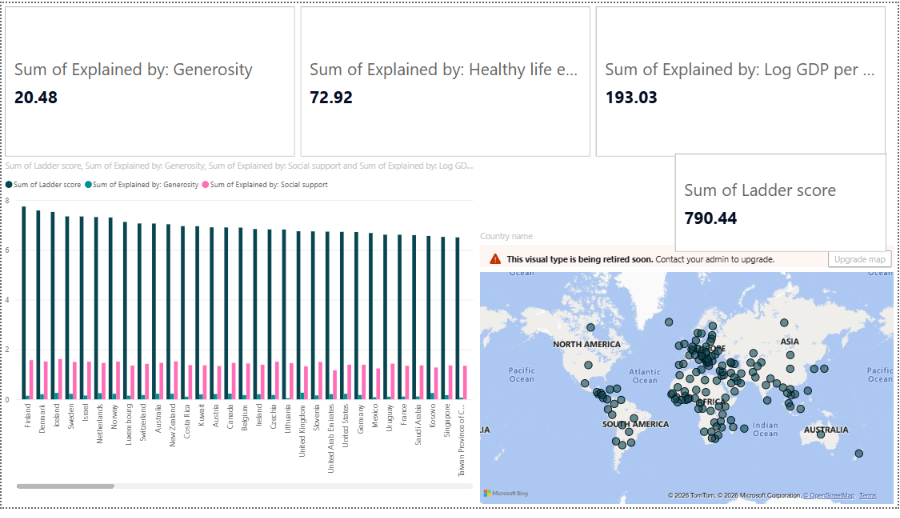

This screenshot's page, from the dashboard's own definition file:
{"tool":"powerbi","page":{"name":"GLOBAL OVERVIEW","canvas":[1280,720],"ordinal":0},"visuals":[{"type":"cardVisual","fields":{"Data":["Sum(WHR2024.Explained by: Generosity)","Sum(WHR2024.Explained by: Healthy life expectancy)","Sum(WHR2024.Explained by: Log GDP per capita)"]},"box":[0,0,1270,224.3],"z":0},{"type":"lineClusteredColumnComboChart","fields":{"Category":["WHR2024.Country name"],"Y":["Sum(WHR2024.Ladder score)","Sum(WHR2024.Explained by: Generosity)","Sum(WHR2024.Explained by: Social support)"]},"box":[0,224.3,678.6,474.3],"z":1},{"type":"map","fields":{"Category":["WHR2024.Country name"]},"box":[678.6,324.3,601.4,395.7],"z":2},{"type":"cardVisual","fields":{"Data":["Sum(WHR2024.Ladder score)"]},"box":[957.1,210,312.9,150],"z":3}]}

Visuals, with their boxes in screenshot pixels (x1, y1, x2, y2), scaled from the page's 1280x720 canvas onto the 900x518 screenshot:
cardVisual - Sum(WHR2024.Explained by: Generosity) x Sum(WHR2024.Explained by: Healthy life expectancy): 0:0:893:161
lineClusteredColumnComboChart - WHR2024.Country name x Sum(WHR2024.Ladder score): 0:161:477:503
map - WHR2024.Country name: 477:233:899:517
cardVisual - Sum(WHR2024.Ladder score): 673:151:893:259
